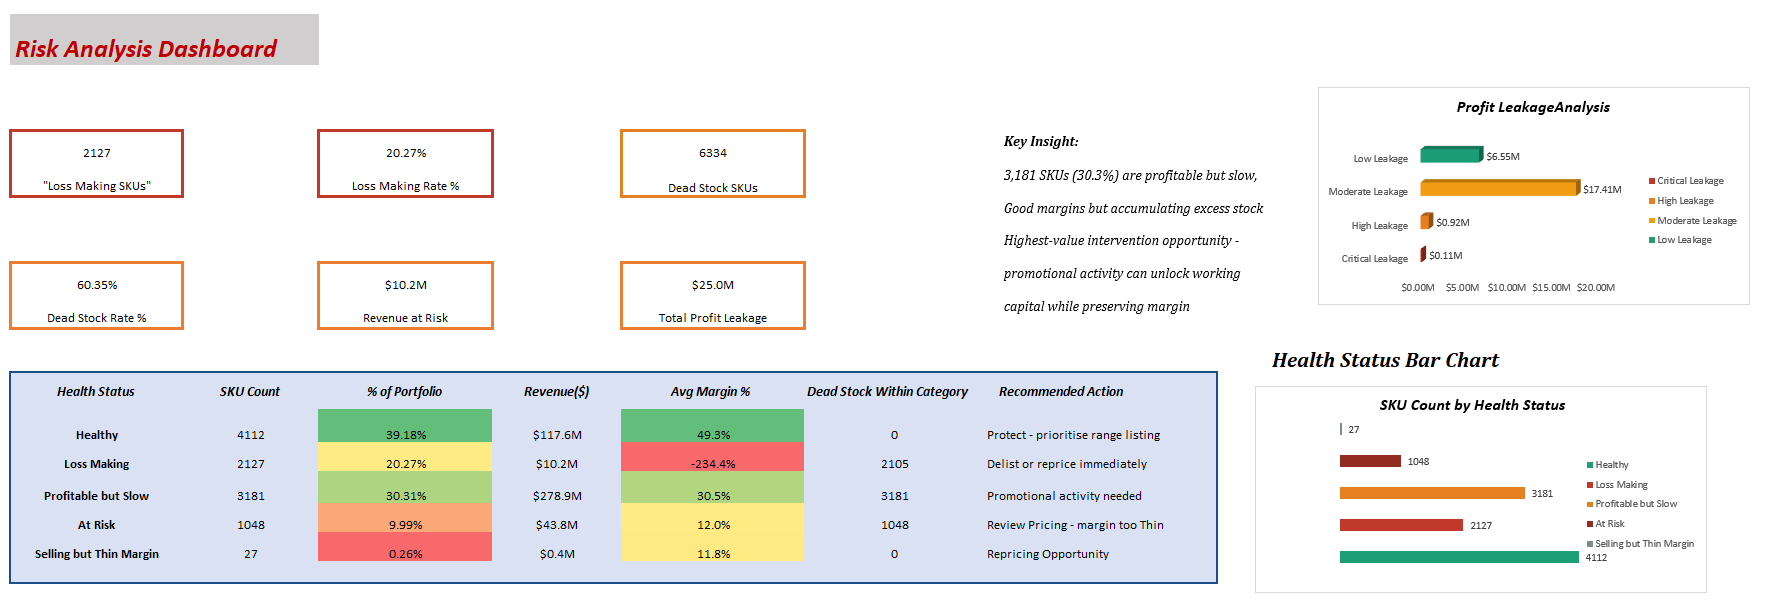

Layout of this report page (visuals, bound fields, positions):
{"tool":"powerbi","page":{"name":"Risk Dashboard","canvas":[1920,1080],"ordinal":2},"visuals":[{"type":"card","fields":{"Values":["_Commercial_Measures.Loss Making SKUs"]},"box":[0,0,275.1,121.2],"z":0},{"type":"card","fields":{"Values":["_Commercial_Measures.Dead Stock Rate %"]},"box":[962.7,0,295,123.1],"z":1000},{"type":"card","fields":{"Values":["_Commercial_Measures.Profit Leakage"]},"box":[1303,0,298.6,123.1],"z":2000},{"type":"card","fields":{"Values":["_Commercial_Measures.Loss Making Rate %"]},"box":[318.5,0,273.3,121.2],"z":3000},{"type":"card","fields":{"Values":["_Commercial_Measures.Revenue_At_Risk"]},"box":[1648.6,0,271.4,121.2],"z":4000},{"type":"card","fields":{"Values":["_Commercial_Measures.Dead Stock SKUs"]},"box":[635.2,0,289.5,121.2],"z":5000},{"type":"clusteredBarChart","title":"SKU Count by Health Status","fields":{"Category":["Portfolio_Health.HealthStatus"],"Y":["CountNonNull(Portfolio_Health.Description)"]},"box":[687,637,550,442.6],"z":6000},{"type":"barChart","title":"Profit Leakage by Vendor - Three Dimensions","fields":{"Category":["vw_ProfitLeakage.VendorName"],"Y":["Sum(vw_ProfitLeakage.LossMakingLeakage)","Sum(vw_ProfitLeakage.ExciseLeakage)","Sum(vw_ProfitLeakage.FreightLeakage)"]},"box":[17.3,562.7,662.2,517.2],"z":7000},{"type":"tableEx","title":"Loss Making Products - Full List","fields":{"Values":["Portfolio_Health.VendorName","Portfolio_Health.Description","Sum(Portfolio_Health.TotalSalesDollars)","Sum(Portfolio_Health.GrossProfit)","Sum(Portfolio_Health.ProfitMargin)","Sum(Portfolio_Health.StockTurnover)","Portfolio_Health.HealthStatus","_Revenue Measures.SKUs by Health Category"]},"box":[870,138.5,1049.6,458.8],"z":8000},{"type":"scatterChart","fields":{"Category":["Portfolio_Health.Description"],"Series":["Portfolio_Health.TurnoverCategory"],"X":["Avg(Portfolio_Health.StockTurnover)"],"Y":["Sum(Portfolio_Health.TotalSalesDollars)"]},"box":[1256.7,635,663.3,445],"z":9000},{"type":"slicer","title":"Filter By Vendor","fields":{"Values":["Vendor_Revenue.VendorName"]},"box":[18,140,300,202],"z":10000},{"type":"donutChart","title":"Vendors by Leakage Severity","fields":{"Category":["vw_ProfitLeakage.LeakageSeverity"],"Y":["CountNonNull(vw_ProfitLeakage.VendorName)"]},"box":[380,143,463.3,398.1],"z":11000}]}

Visuals, with their boxes on the page's 1920x1080 design canvas (x1, y1, x2, y2). These are canvas units, not pixel positions in the 1778x613 screenshot, which may show the page scaled, cropped or inside an application window:
card - _Commercial_Measures.Loss Making SKUs: x1=0 y1=0 x2=275 y2=121
card - _Commercial_Measures.Dead Stock Rate %: x1=963 y1=0 x2=1258 y2=123
card - _Commercial_Measures.Profit Leakage: x1=1303 y1=0 x2=1602 y2=123
card - _Commercial_Measures.Loss Making Rate %: x1=318 y1=0 x2=592 y2=121
card - _Commercial_Measures.Revenue_At_Risk: x1=1649 y1=0 x2=1920 y2=121
card - _Commercial_Measures.Dead Stock SKUs: x1=635 y1=0 x2=925 y2=121
"SKU Count by Health Status" clusteredBarChart: x1=687 y1=637 x2=1237 y2=1080
"Profit Leakage by Vendor - Three Dimensions" barChart: x1=17 y1=563 x2=680 y2=1080
"Loss Making Products - Full List" tableEx: x1=870 y1=138 x2=1920 y2=597
scatterChart - Portfolio_Health.Description x Portfolio_Health.TurnoverCategory: x1=1257 y1=635 x2=1920 y2=1080
"Filter By Vendor" slicer: x1=18 y1=140 x2=318 y2=342
"Vendors by Leakage Severity" donutChart: x1=380 y1=143 x2=843 y2=541
